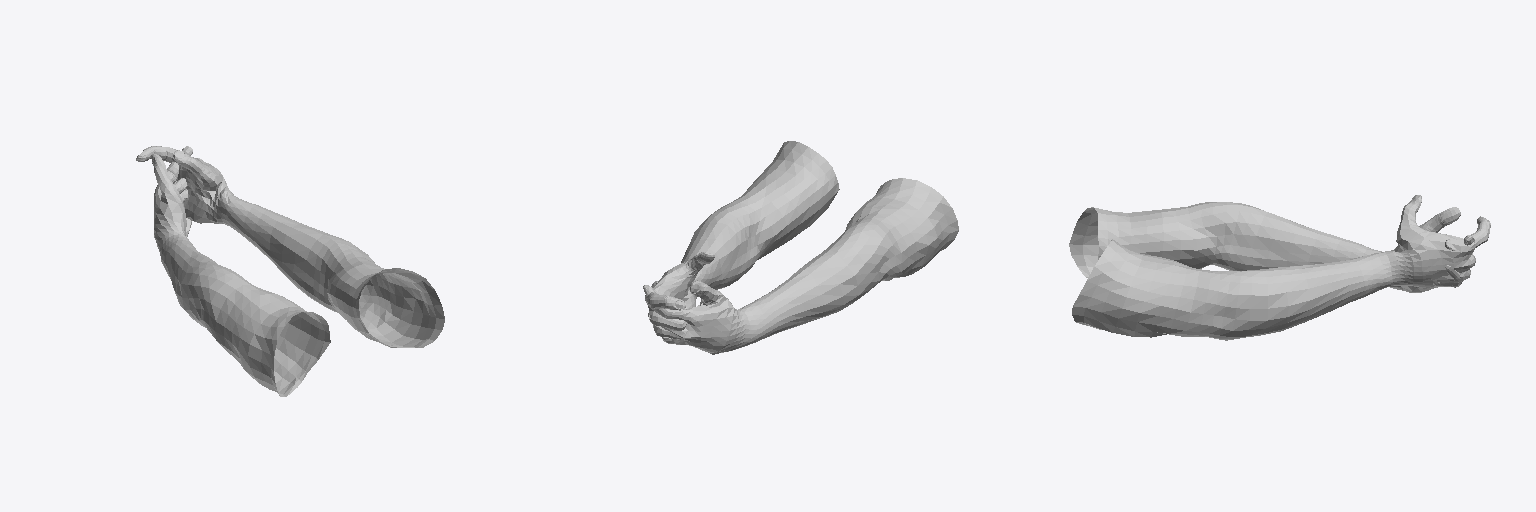
The model's file is fps_arms.obj.
The picture shows the model from 3 angles: view 1: azimuth 30°, elevation 25°; view 2: azimuth 150°, elevation 25°; view 3: azimuth 270°, elevation 25°; orthographic projection.
Parts seen in each view (by area): view 1: caucasian_male_1:Body; view 2: caucasian_male_1:Body; view 3: caucasian_male_1:Body.
Part boxes in pixels (x1,y1,x2,y2): caucasian_male_1:Body: (136,146,444,396); caucasian_male_1:Body: (643,141,958,354); caucasian_male_1:Body: (1069,195,1490,340).
Size of the model in its own units: 3.12 by 1.87 by 6.36.